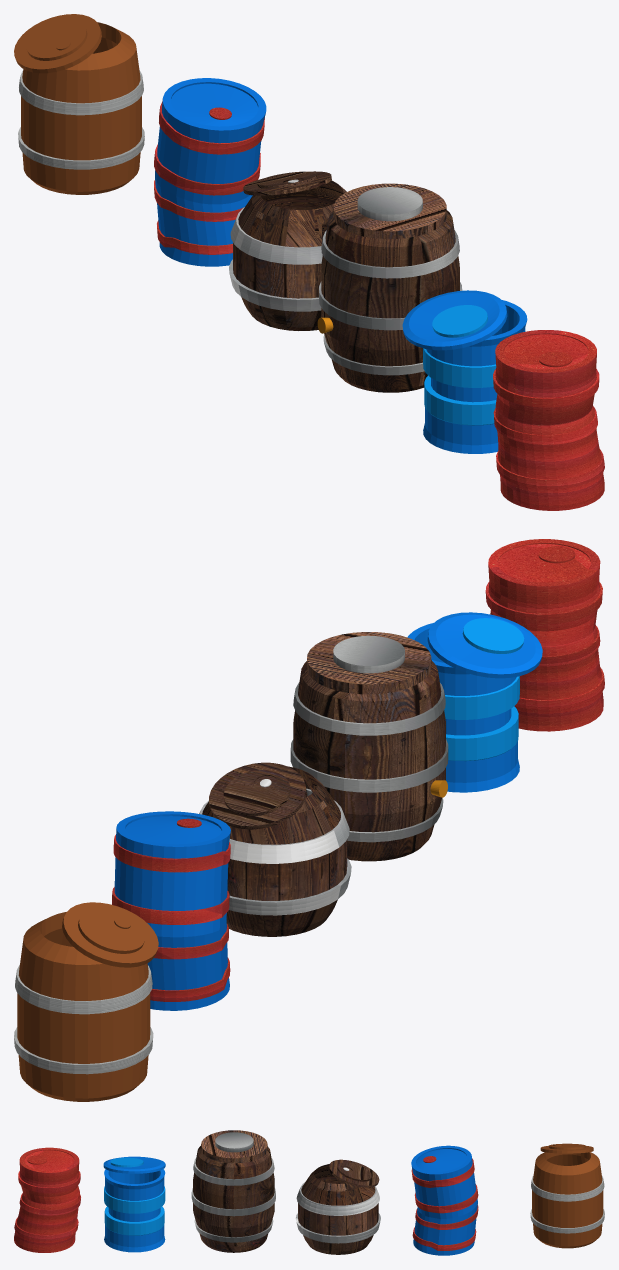
The model's file is Barrels.fbx.
The picture shows the model from 3 angles, top to bottom: view 1: azimuth 30°, elevation 25°; view 2: azimuth 150°, elevation 25°; view 3: azimuth 270°, elevation 25°; orthographic projection. The views are drawn at different scales.
Visible parts, largest first — view 1: Cylinder.003, Cylinder, Cylinder.005, Cylinder.001, Cylinder.002, Cylinder.004; view 2: Cylinder.003, Cylinder, Cylinder.002, Cylinder.001, Cylinder.005, Cylinder.004; view 3: Cylinder.003, Cylinder, Cylinder.002, Cylinder.001, Cylinder.005, Cylinder.004.
Part boxes in pixels (box(x1,y1,x2,y2)): Cylinder.003: box(317, 183, 462, 392); Cylinder: box(14, 14, 144, 194); Cylinder.005: box(493, 330, 604, 510); Cylinder.001: box(154, 78, 266, 266); Cylinder.002: box(229, 171, 346, 330); Cylinder.004: box(402, 290, 527, 453); Cylinder.003: box(290, 632, 448, 861); Cylinder: box(14, 902, 158, 1101); Cylinder.002: box(199, 762, 351, 936); Cylinder.001: box(112, 811, 230, 1010); Cylinder.005: box(485, 539, 604, 731); Cylinder.004: box(407, 612, 542, 792); Cylinder.003: box(191, 1130, 275, 1252); Cylinder: box(530, 1143, 604, 1248); Cylinder.002: box(295, 1159, 380, 1254); Cylinder.001: box(411, 1145, 478, 1255); Cylinder.005: box(14, 1147, 80, 1252); Cylinder.004: box(103, 1156, 165, 1252).
Size of the model in its own units: 330 by 369 by 1930.
